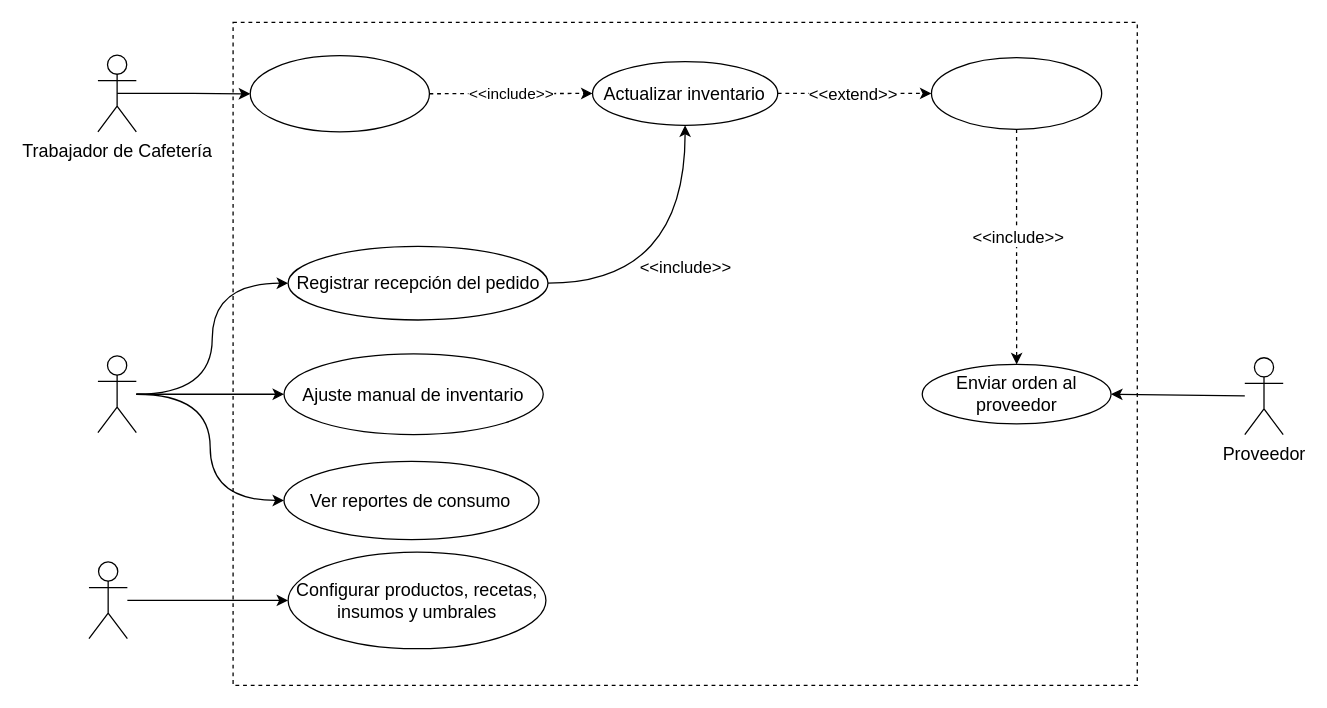
Image size: 1327x708. Some labels were removed from this diagram. Each missing label, with the centre of its shape:
"Administrador Central" goes at (107,600).
"Generar orden de reposición" goes at (1016,92).
"Gerente Del Cafe" goes at (116,394).
"Registrar venta del cafe" goes at (339,93).
